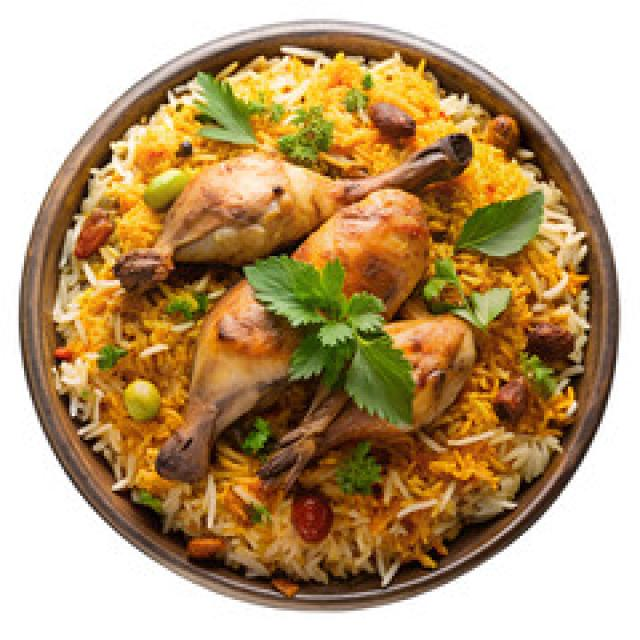BIRIYANI: (51, 51, 587, 581)
